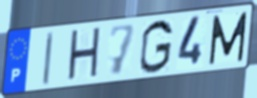4: (176, 14, 206, 72)
7: (108, 22, 137, 79)
G: (138, 19, 175, 76)
H: (65, 25, 103, 85)
I: (41, 30, 55, 88)
M: (207, 10, 250, 67)
